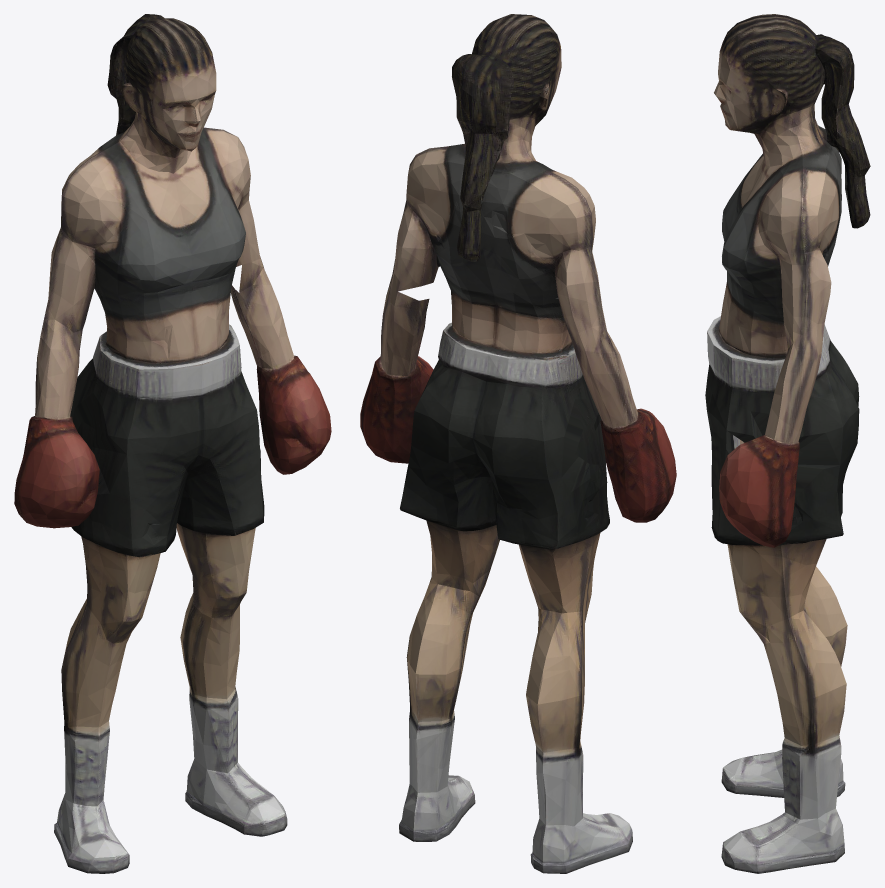
The model's file is boxer_f.glb.
The picture shows the model from 3 angles, left to right: view 1: azimuth 30°, elevation 25°; view 2: azimuth 150°, elevation 25°; view 3: azimuth 270°, elevation 25°; orthographic projection.
Size of the model in its own units: 0.9604 by 2.42 by 0.451.
Materials: 1 (1 with a texture image).
